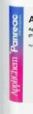ApplichemPanreac: (10, 13, 21, 98)
